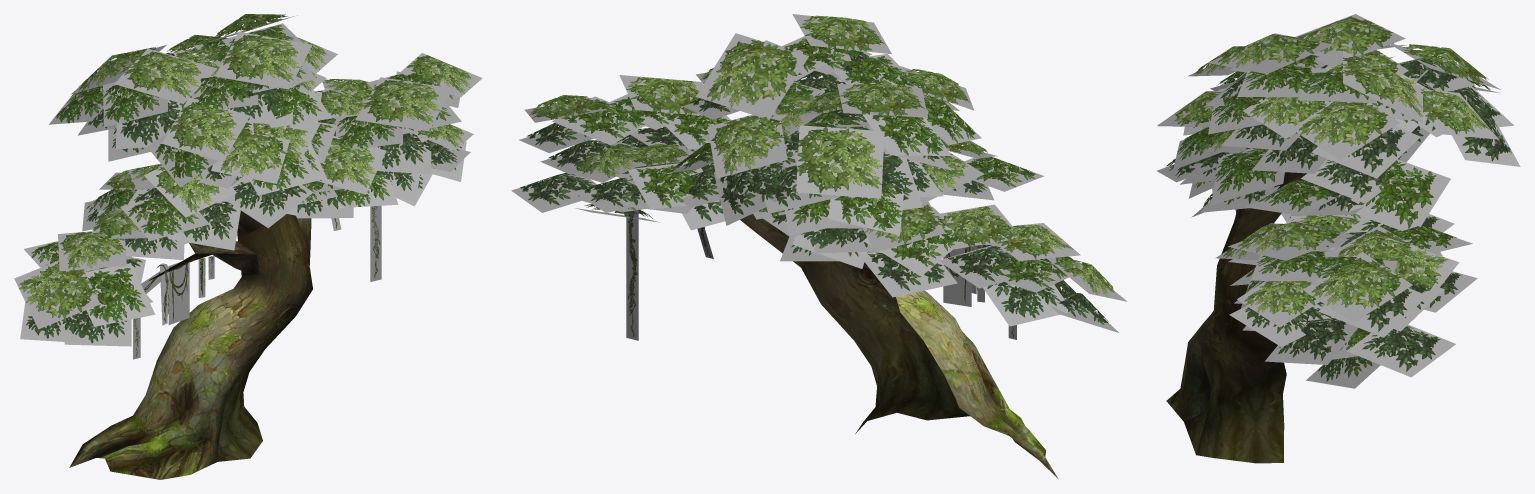
File: S_Tree_Green129_1.FBX
The picture shows the model from 3 angles, left to right: view 1: azimuth 30°, elevation 25°; view 2: azimuth 150°, elevation 25°; view 3: azimuth 270°, elevation 25°; orthographic projection. The views are drawn at different scales.
Parts seen in each view (by area): view 1: S_Tree_Green129_1; view 2: S_Tree_Green129_1; view 3: S_Tree_Green129_1.
Boxes of the visible parts, x1,y1,x2,y2 form: S_Tree_Green129_1: (14,14,482,479); S_Tree_Green129_1: (511,14,1127,478); S_Tree_Green129_1: (1157,14,1520,463).
Bounding box in the file's own units: 360 × 259 × 193.
4 materials, 3 textured.
